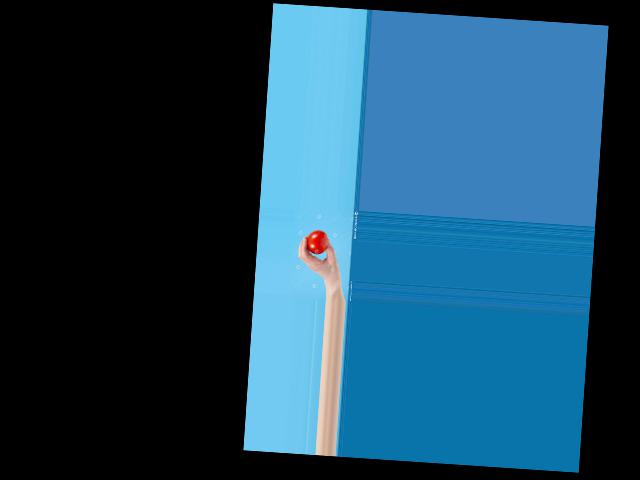tomato: (306, 229, 328, 255)
